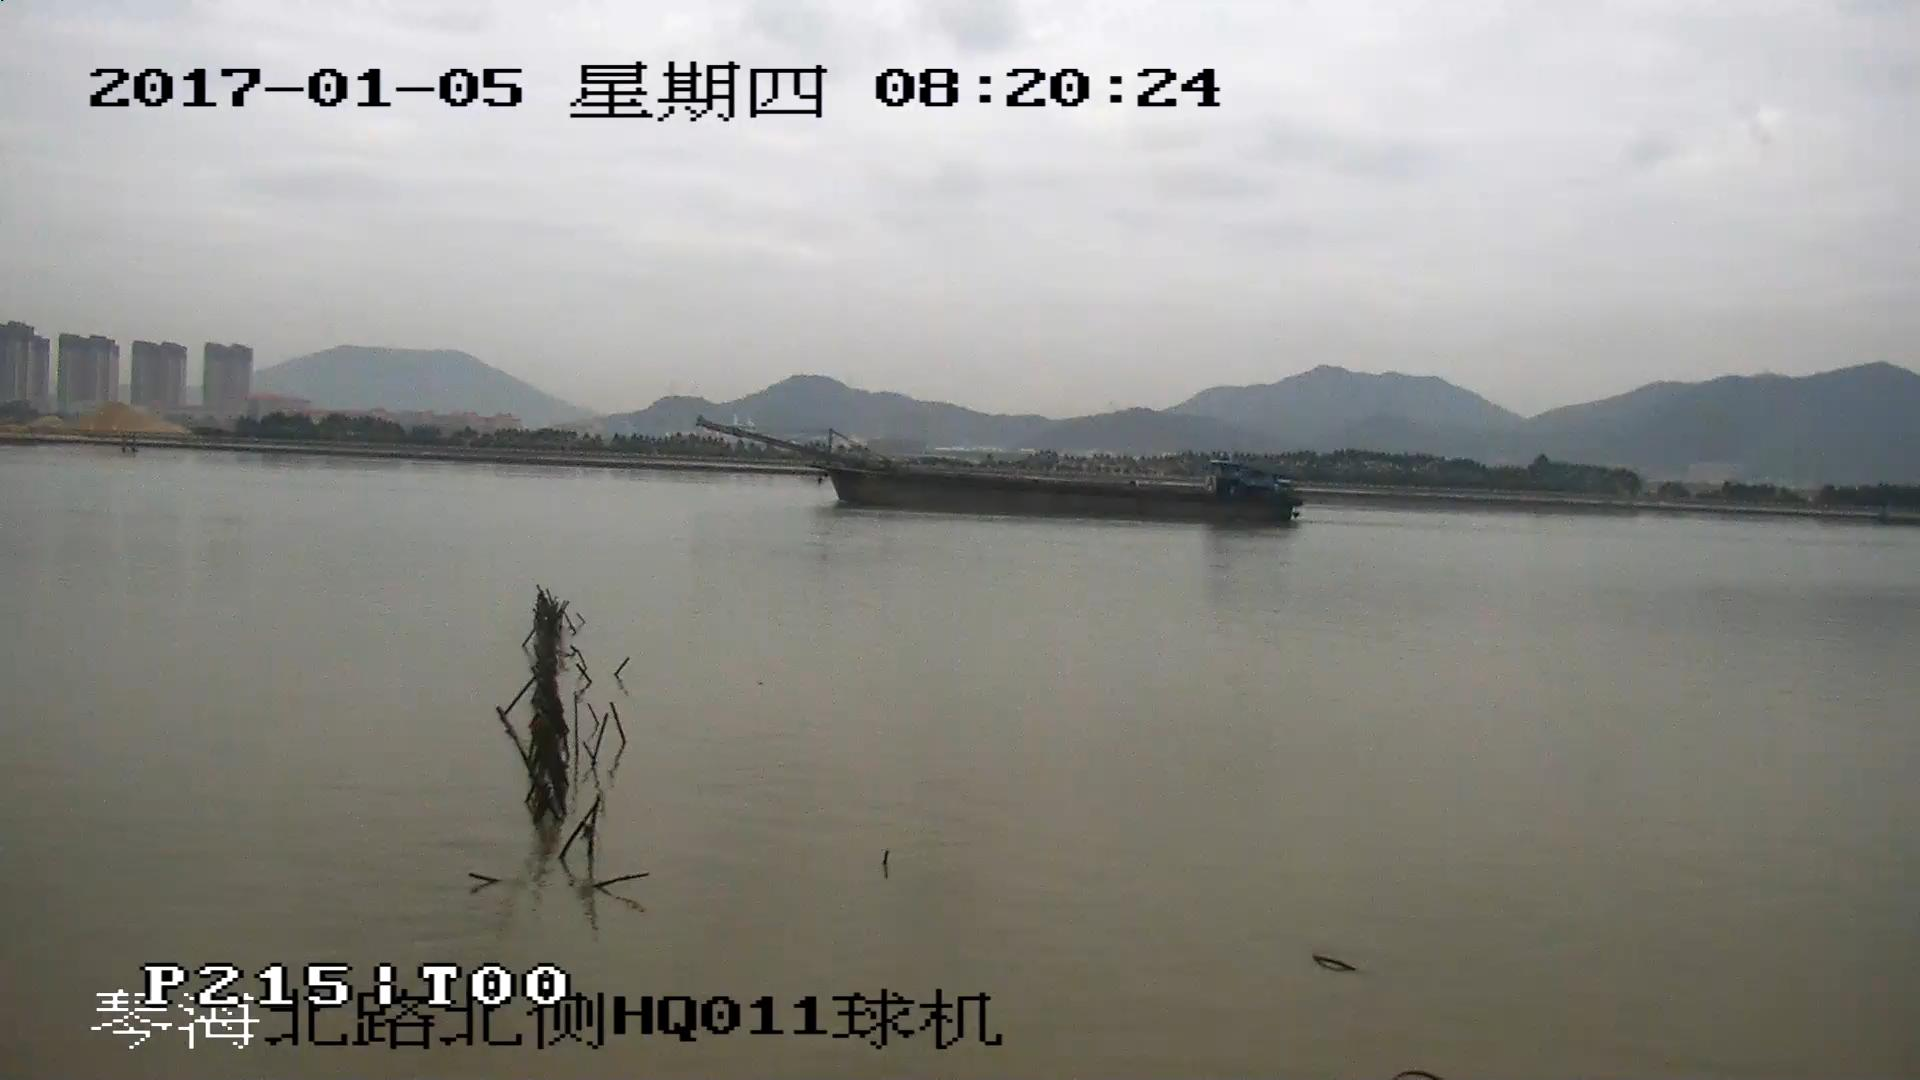bulk cargo carrier: (698, 420, 1300, 524)
